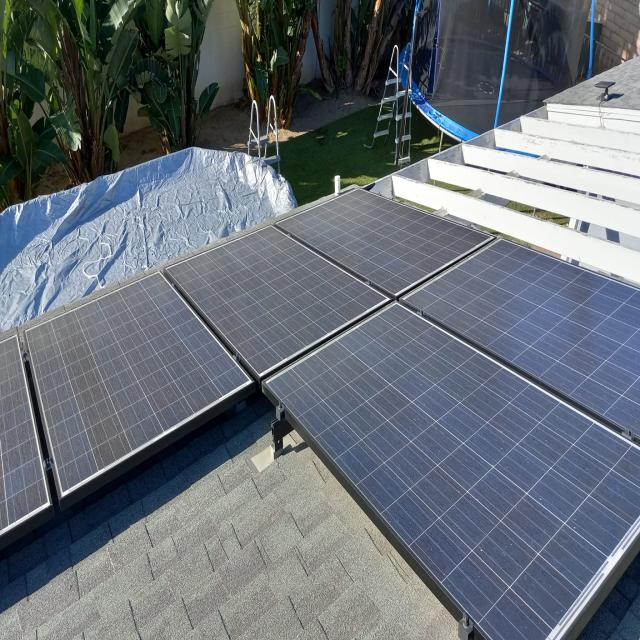dust-solar-panel: (2, 180, 640, 640)
